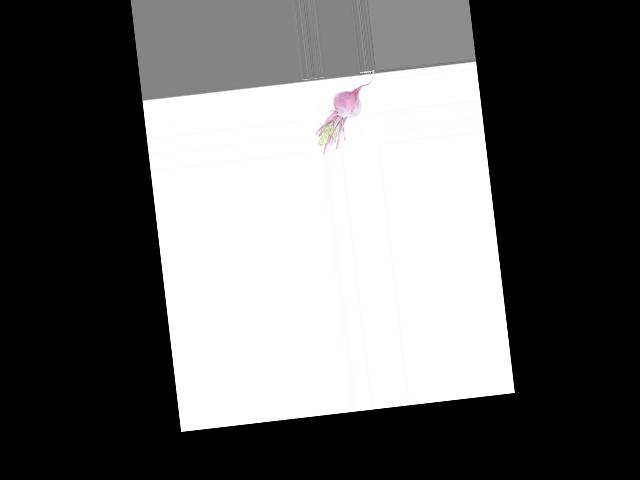beet: (309, 77, 382, 156)
